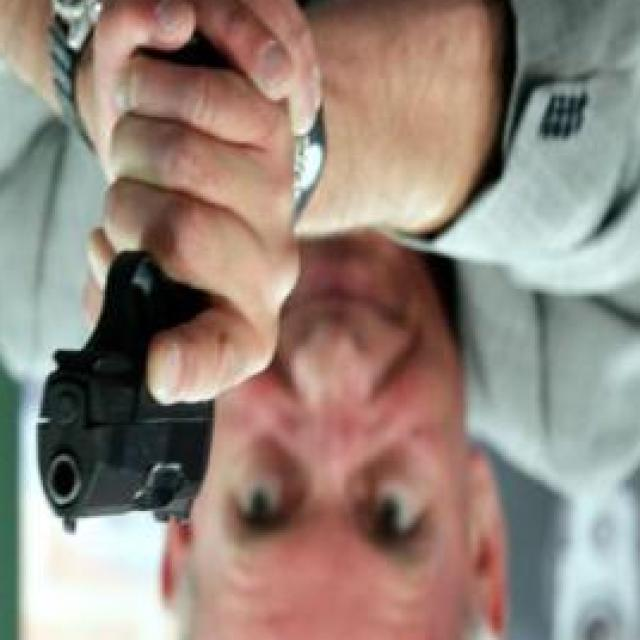pistol: (27, 204, 270, 528)
